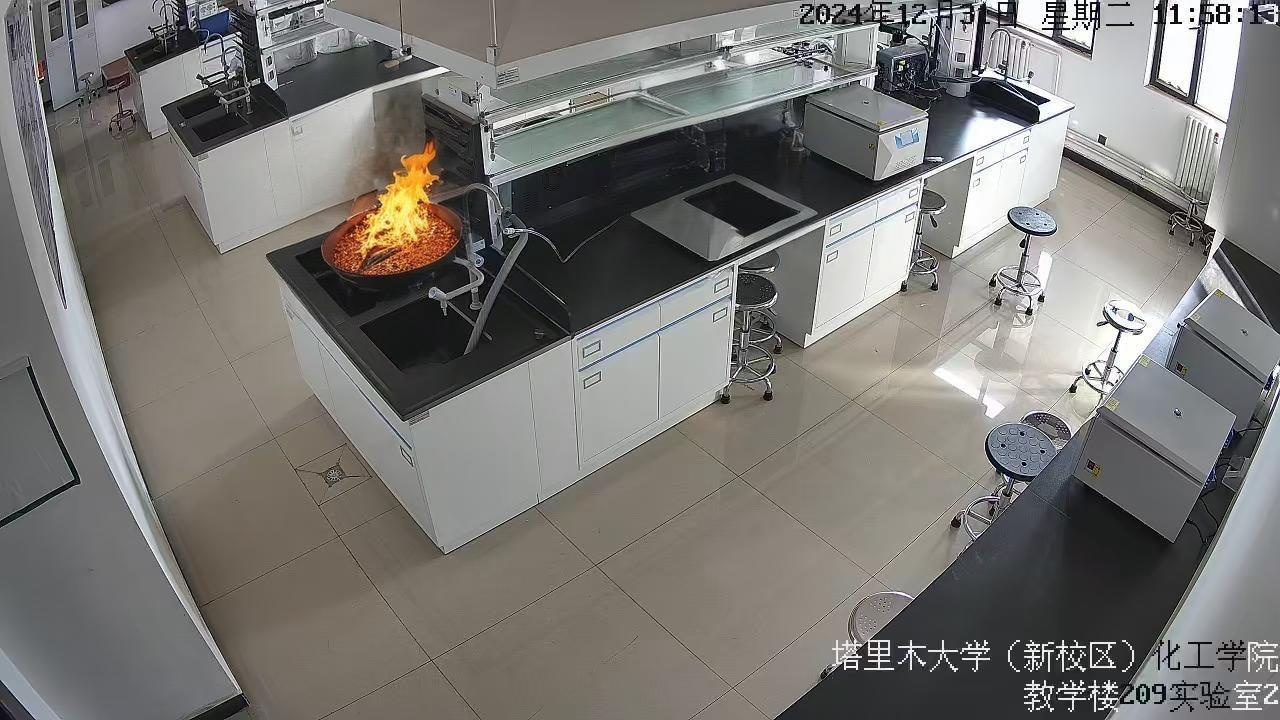fire: (348, 141, 455, 258)
